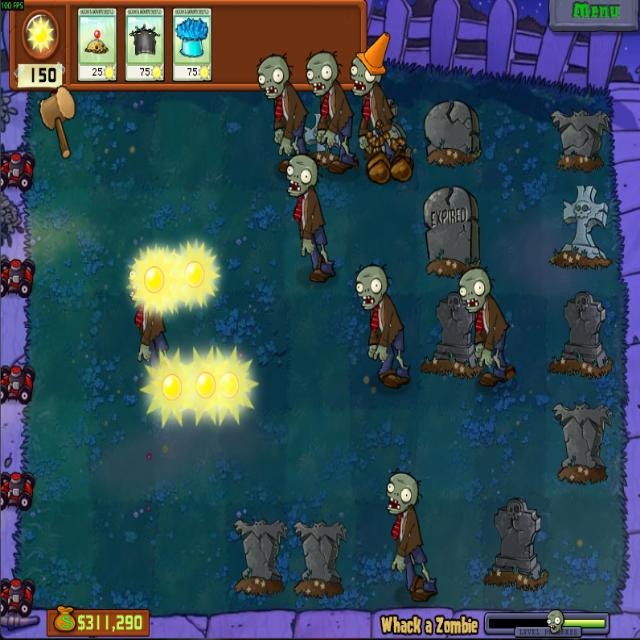conehead: (346, 31, 391, 98)
grave: (482, 496, 549, 593), (547, 290, 613, 377), (550, 398, 615, 486), (418, 186, 479, 277), (547, 184, 611, 270), (421, 291, 482, 378), (231, 514, 289, 598), (291, 517, 349, 598), (546, 104, 612, 175), (421, 96, 483, 167), (368, 96, 410, 157), (302, 112, 342, 165)
gravebuster: (123, 6, 166, 80)
zombie: (303, 46, 341, 100), (381, 469, 421, 517), (255, 51, 291, 103), (353, 262, 389, 310), (458, 265, 493, 314), (284, 153, 319, 198), (125, 256, 154, 304)
